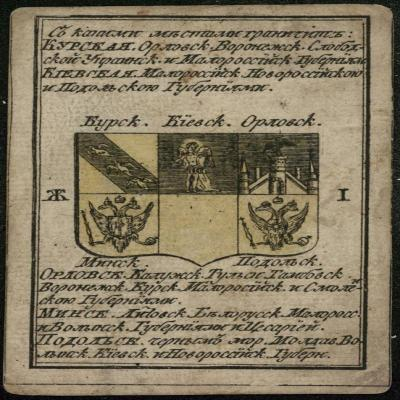dpi: (0, 2, 400, 400)
